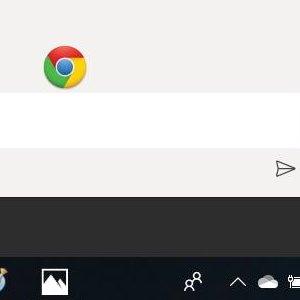chrome: (43, 45, 87, 89)
